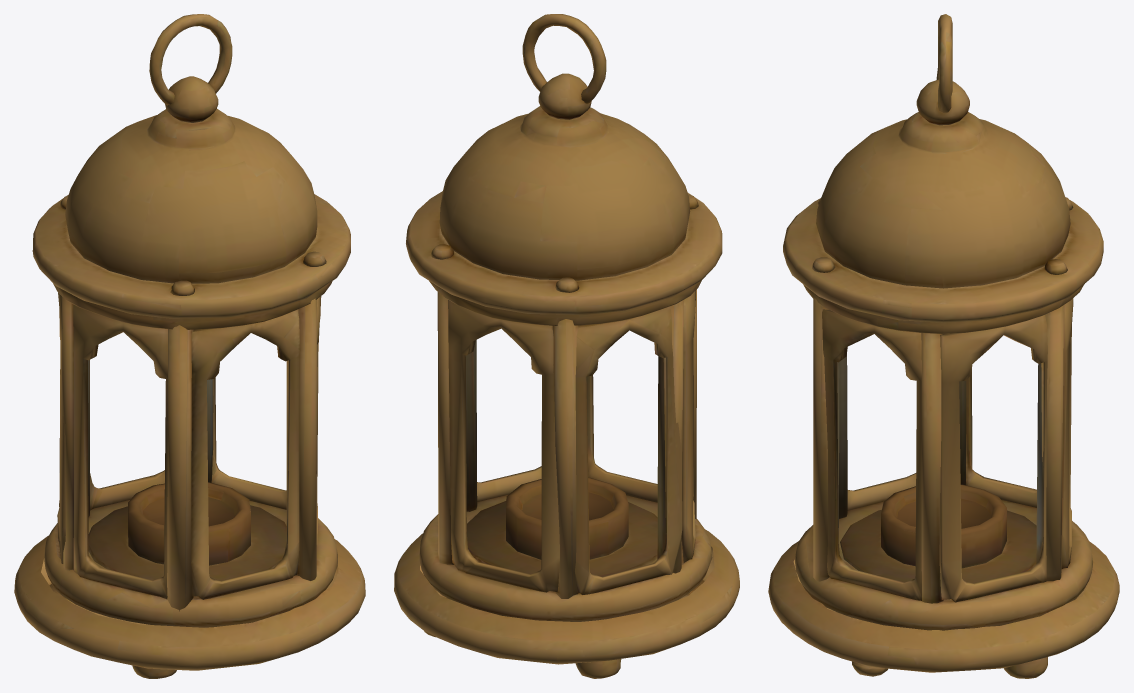
File: lantern.6b0a7352.glb
The picture shows the model from 3 angles, left to right: view 1: azimuth 30°, elevation 25°; view 2: azimuth 150°, elevation 25°; view 3: azimuth 270°, elevation 25°; orthographic projection.
Parts seen in each view (by area): view 1: tripo_node_7452446d-acc8-4124-a7bf-db32def8200a; view 2: tripo_node_7452446d-acc8-4124-a7bf-db32def8200a; view 3: tripo_node_7452446d-acc8-4124-a7bf-db32def8200a.
Part boxes in pixels (bbox=[...]): tripo_node_7452446d-acc8-4124-a7bf-db32def8200a: bbox=[14, 14, 365, 678]; tripo_node_7452446d-acc8-4124-a7bf-db32def8200a: bbox=[394, 14, 739, 678]; tripo_node_7452446d-acc8-4124-a7bf-db32def8200a: bbox=[768, 14, 1119, 678].
Bounding box in the file's own units: 0.5137 × 0.998 × 0.5176.
Materials: 1 (1 with a texture image).
